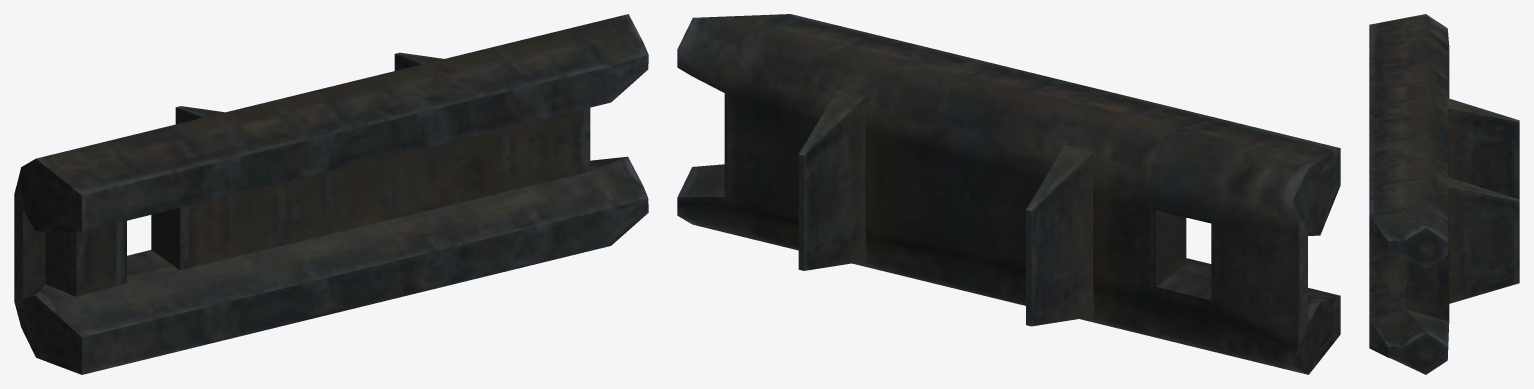
The picture shows the model from 3 angles, left to right: view 1: azimuth 30°, elevation 25°; view 2: azimuth 150°, elevation 25°; view 3: azimuth 270°, elevation 25°; orthographic projection. The views are drawn at different scales.
Visible parts, largest first — view 1: set_0_group_0; view 2: set_0_group_0; view 3: set_0_group_0.
Boxes of the visible parts, x1,y1,x2,y2 form: set_0_group_0: (14, 14, 648, 374); set_0_group_0: (677, 14, 1340, 374); set_0_group_0: (1369, 14, 1519, 374).
Size of the model in its own units: 0.66 by 0.2097 by 0.1945.
1 material, 1 textured.
